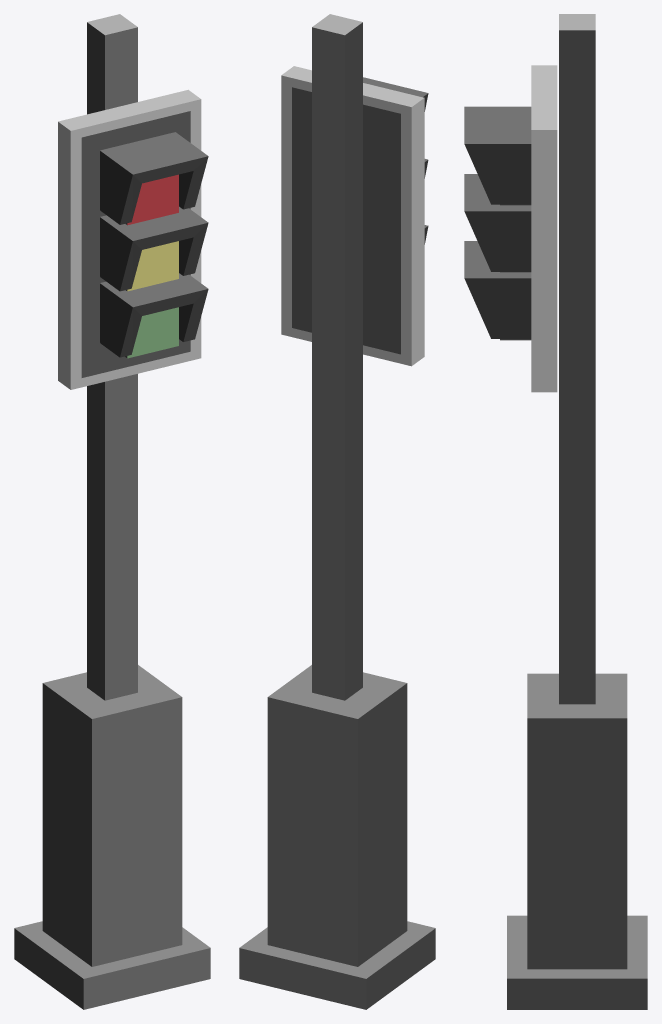
File: traffic_light_mesh.fbx
3 views of the same model, side by side, from view 1: azimuth 30°, elevation 25°; view 2: azimuth 150°, elevation 25°; view 3: azimuth 270°, elevation 25° (orthographic).
Parts seen in each view (by area): view 1: traffic_light_mesh; view 2: traffic_light_mesh; view 3: traffic_light_mesh.
Part boxes in pixels (x1,y1,x2,y2): traffic_light_mesh: (14, 14, 210, 1009); traffic_light_mesh: (239, 14, 435, 1009); traffic_light_mesh: (464, 14, 647, 1009).
Bounding box in the file's own units: 1.14 × 7.88 × 1.37.
